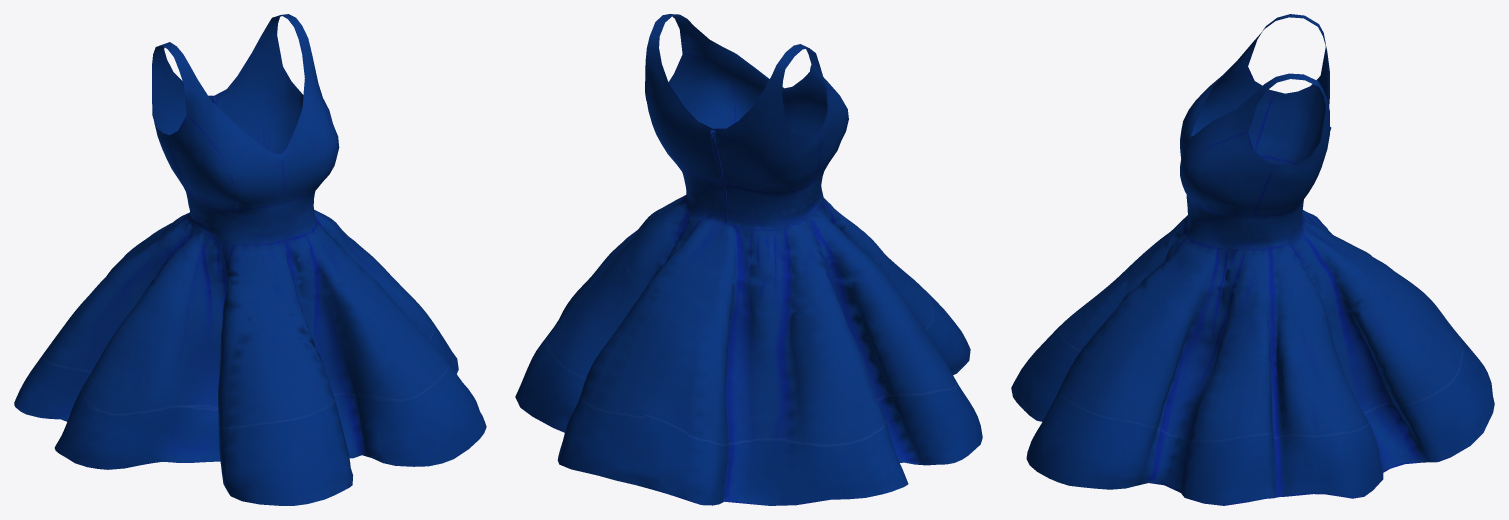
3 views of the same model, side by side, from view 1: azimuth 30°, elevation 25°; view 2: azimuth 150°, elevation 25°; view 3: azimuth 270°, elevation 25° (orthographic). The views are drawn at different scales.
Visible parts, largest first — view 1: Dress; view 2: Dress; view 3: Dress.
Boxes of the visible parts, x1,y1,x2,y2 form: Dress: (14, 14, 486, 505); Dress: (515, 14, 982, 505); Dress: (1011, 14, 1494, 505).
Size of the model in its own units: 1.92 by 1.73 by 2.
1 material, 1 textured.
